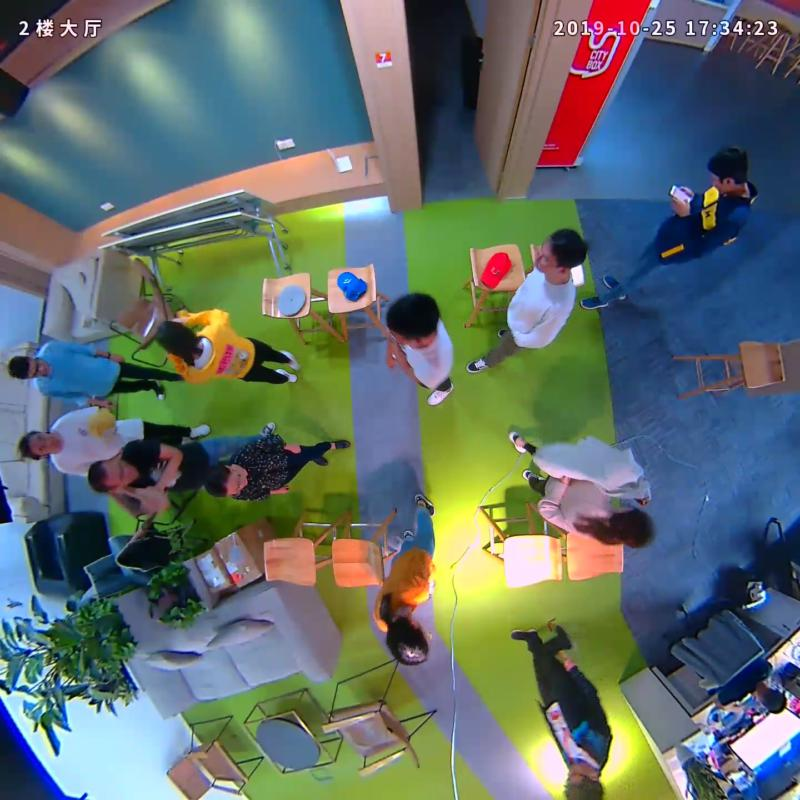head: (387, 292, 439, 344), (534, 229, 587, 275), (386, 614, 428, 665), (706, 147, 749, 193), (610, 506, 654, 548), (86, 458, 138, 493), (563, 760, 604, 800), (156, 320, 198, 357), (203, 463, 248, 497), (18, 431, 60, 459), (9, 354, 50, 381)
